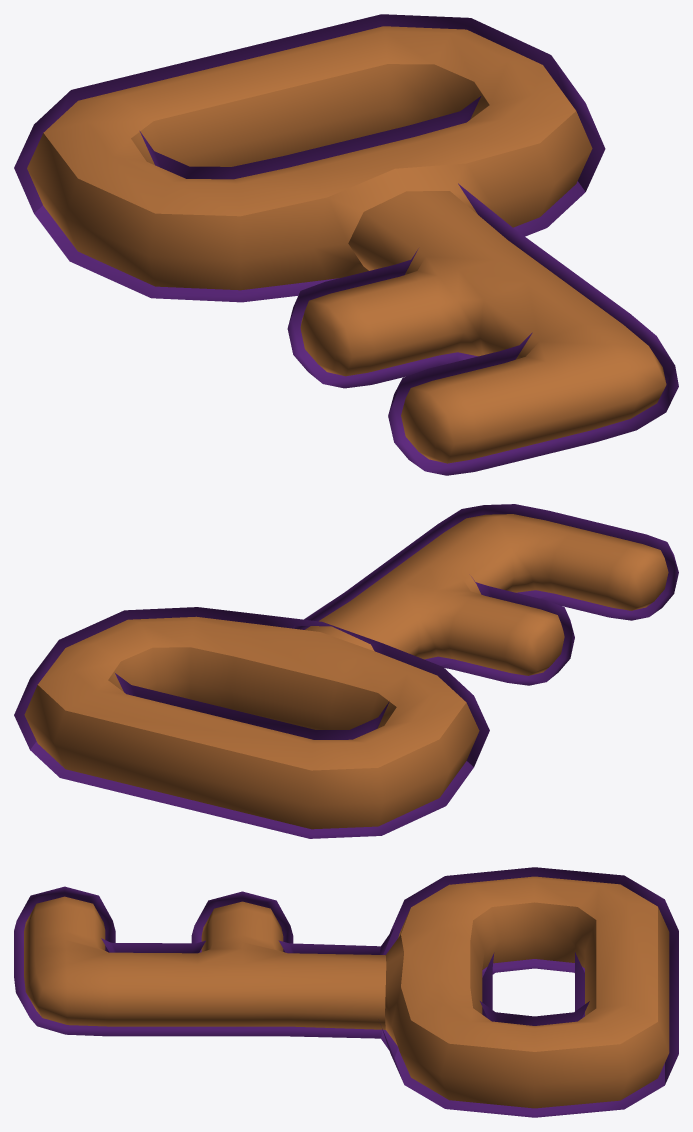
Rendered from key_outline.glb.
3 renders of one model, top to bottom at view 1: azimuth 30°, elevation 25°; view 2: azimuth 150°, elevation 25°; view 3: azimuth 270°, elevation 25°, orthographic. The views are drawn at different scales.
Visible parts, largest first — view 1: key, key_outline; view 2: key, key_outline; view 3: key, key_outline.
Part boxes in pixels (left/top/right/bottom): key: left=27, top=26, right=666, bottom=463; key_outline: left=14, top=14, right=678, bottom=475; key: left=24, top=514, right=668, bottom=829; key_outline: left=14, top=504, right=678, bottom=838; key: left=24, top=876, right=669, bottom=1108; key_outline: left=14, top=867, right=678, bottom=1117.
Bounding box in the file's own units: 7.9 × 1.85 × 11.46.
